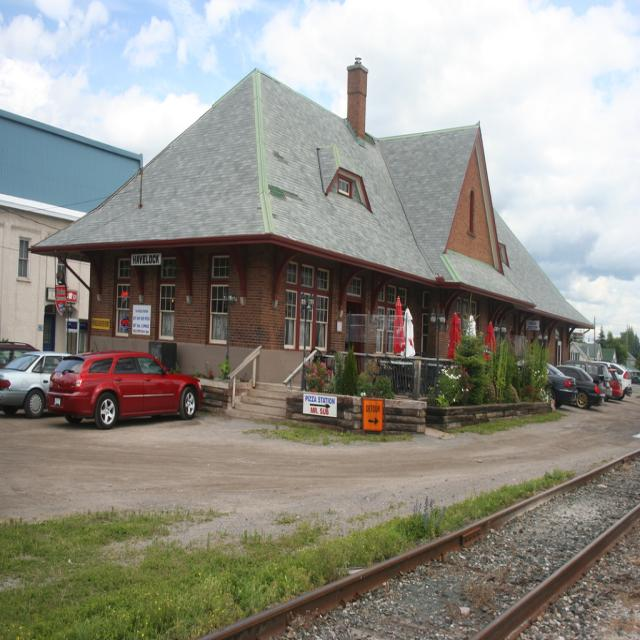car: (45, 350, 205, 428)
